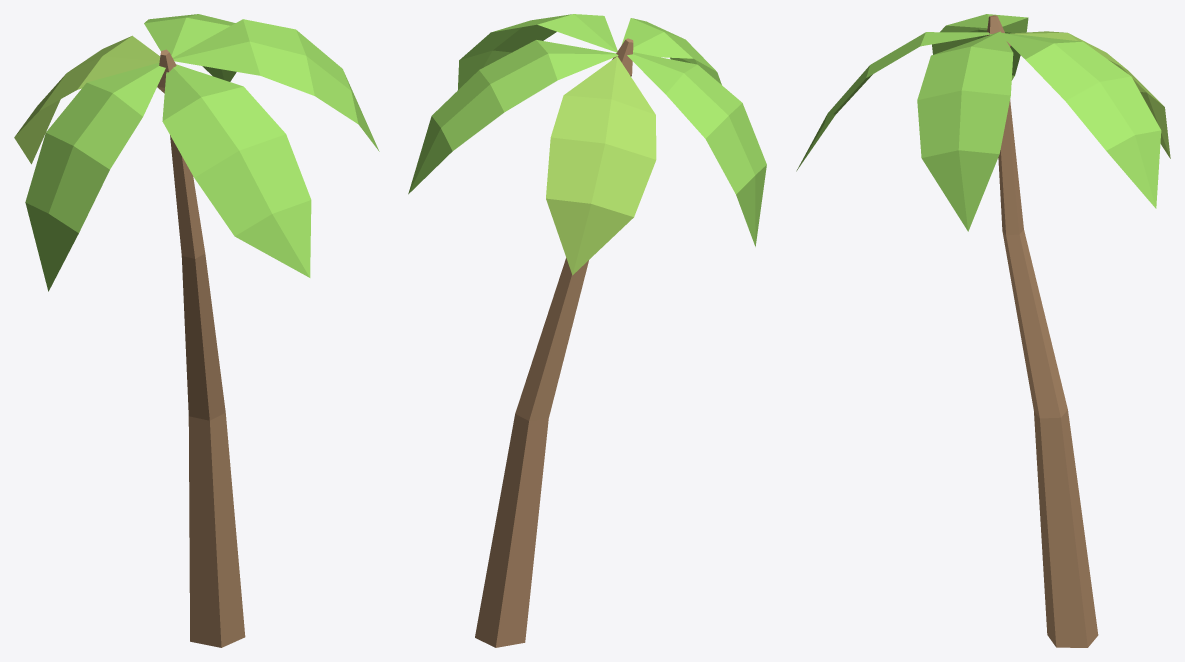
File: Palm_Tree_OneSided_s_06.fbx
3 renders of one model, left to right at view 1: azimuth 30°, elevation 25°; view 2: azimuth 150°, elevation 25°; view 3: azimuth 270°, elevation 25°, orthographic. The views are drawn at different scales.
Parts seen in each view (by area): view 1: Palm_Tree_OneSided_s_06; view 2: Palm_Tree_OneSided_s_06; view 3: Palm_Tree_OneSided_s_06.
Part boxes in pixels (x1,y1,x2,y2): Palm_Tree_OneSided_s_06: [14, 14, 379, 647]; Palm_Tree_OneSided_s_06: [408, 14, 766, 647]; Palm_Tree_OneSided_s_06: [796, 14, 1170, 647].
Size of the model in its own units: 211 by 393 by 229.
